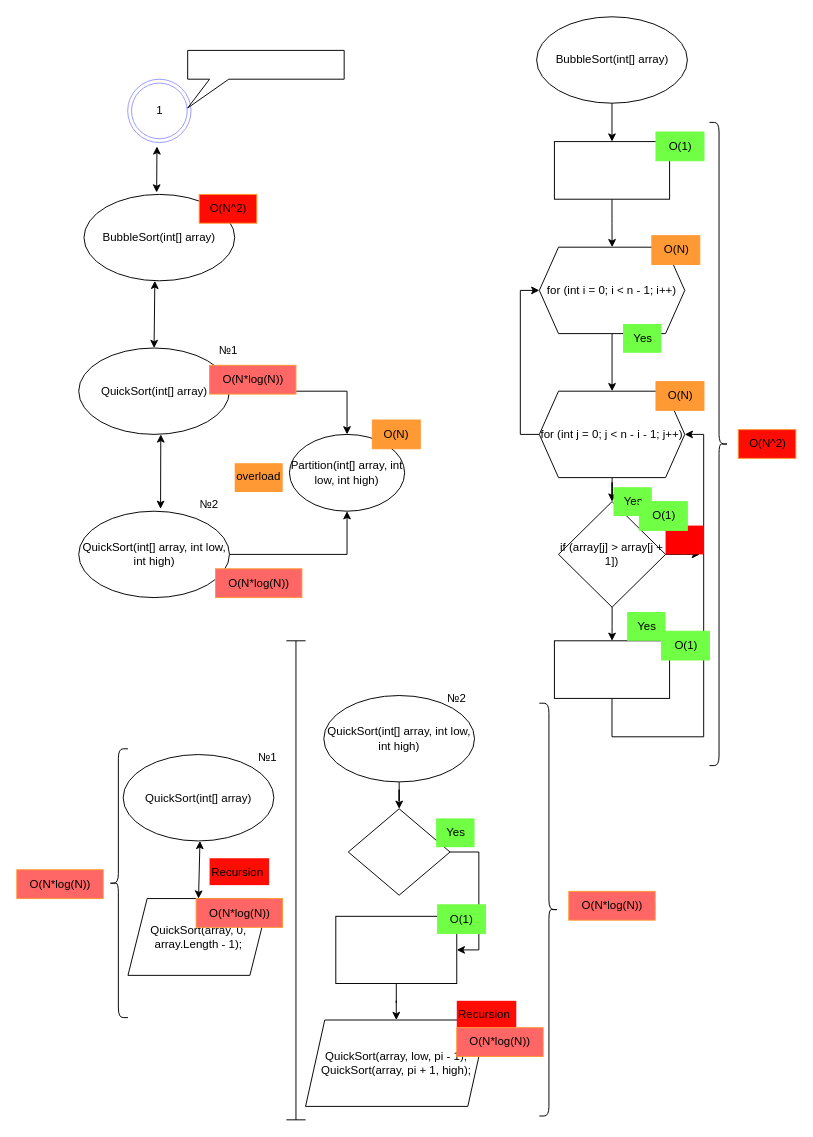
Some shapes in this 813 by 1137 pixel diagram are drawn without their labels. The centre of each missing label's shape, as x and y in pixels:
Class SortingAlgorithms: (x=265, y=78)
if (low < high): (x=398, y=851)
int n = array.Length;: (x=611, y=170)
int pi = Partition(array, low, high);: (x=396, y=949)
int temp = array[j]; array[j] = array[j + 1]; array[j + 1] = temp;: (x=611, y=669)
No: (x=684, y=539)
